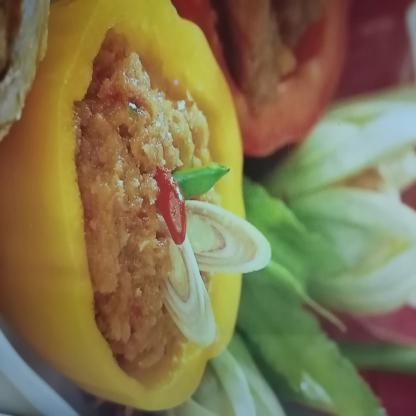Namprig: (59, 20, 285, 414)
